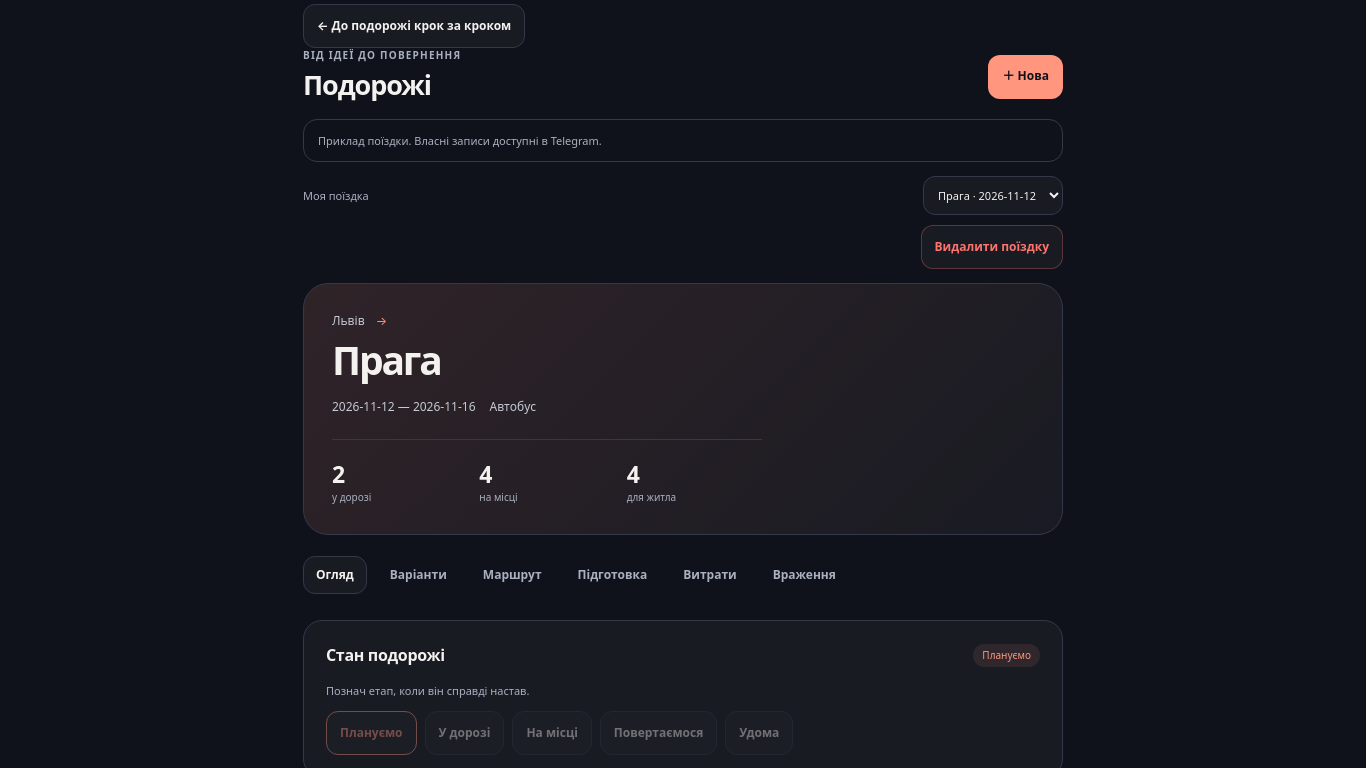
Test: deleting a trip from Mini App › allows deletion of a cancelled trip in either view (&view=details)
Click the button "Видалити поїздку" at (992, 247), box [920,225,1063,269]
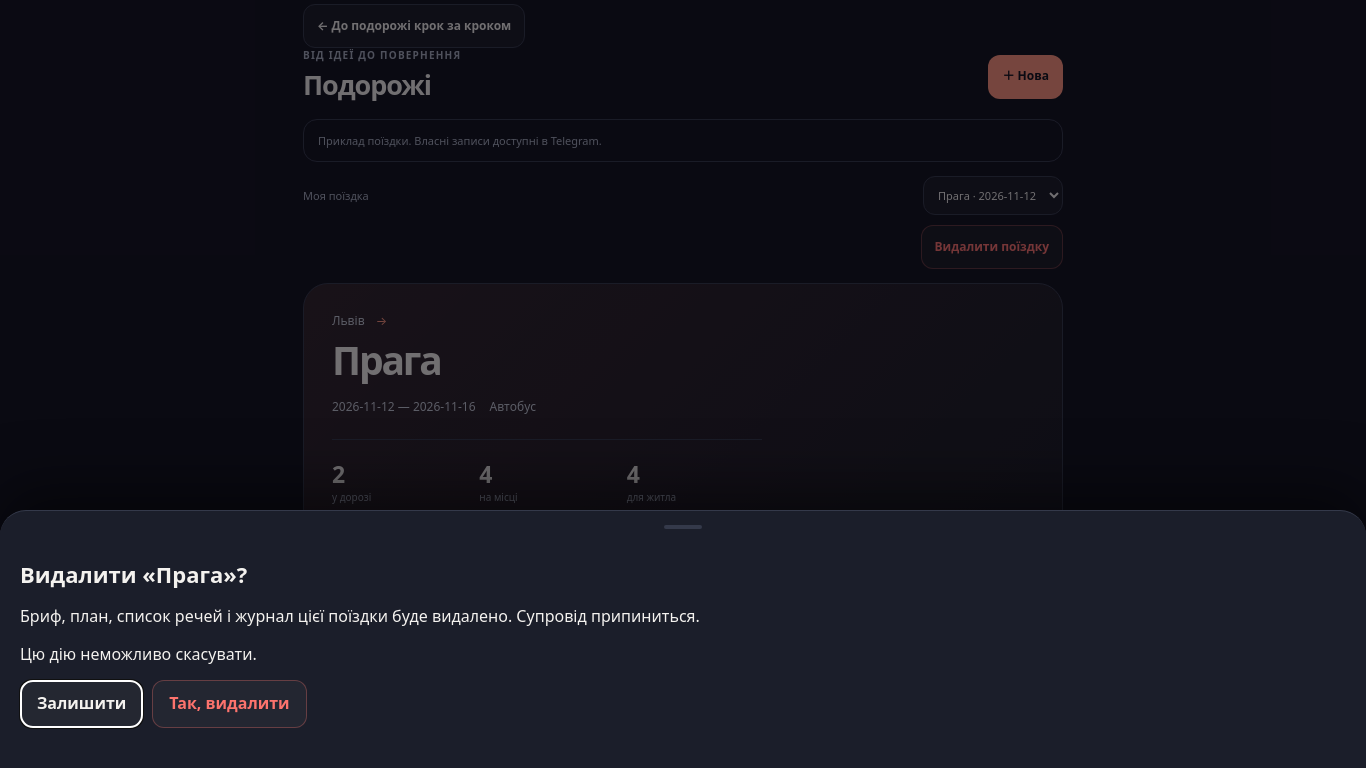
Check: the dialog shows "Супровід припиниться", box [20,605,700,627]
Click the button "Так, видалити" at (230, 704), box [152,680,307,728]
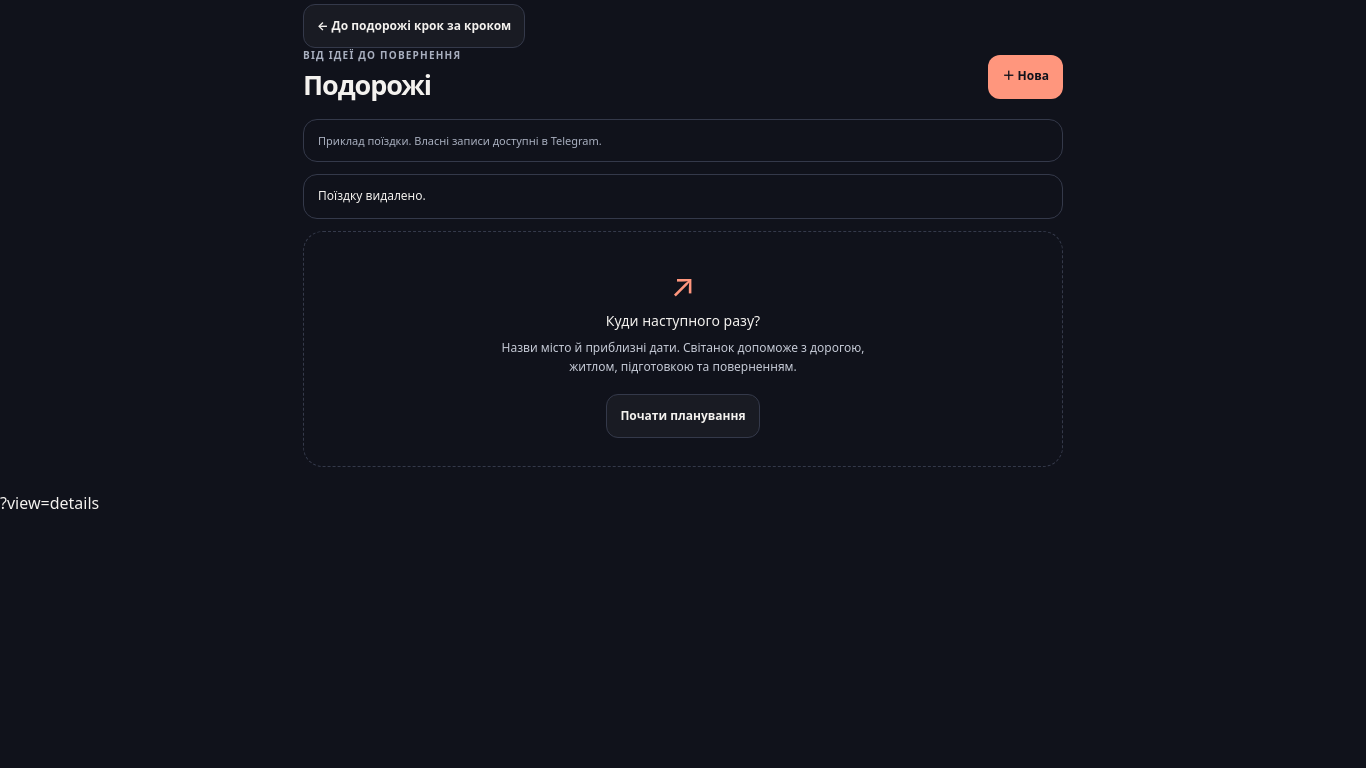
Check: the text "Поїздку видалено." is shown, box [303,174,1063,219]
Check: the heading "Прага" is gone
